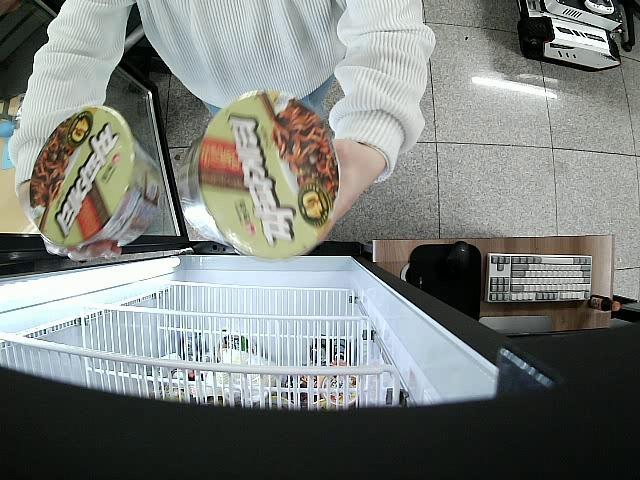03_chapagetti_L: (176, 90, 340, 260), (30, 106, 161, 247)
